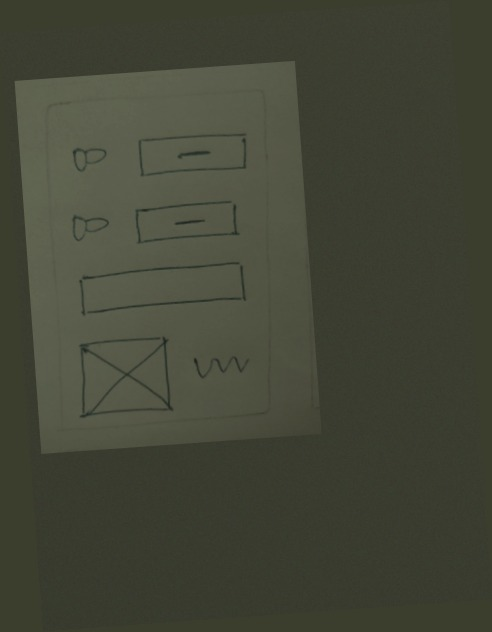button: (133, 126, 251, 186), (130, 190, 248, 250)
image: (71, 330, 180, 424)
switch: (66, 136, 111, 178), (68, 205, 113, 247)
text: (188, 347, 254, 385)
text_input: (72, 258, 251, 318)
